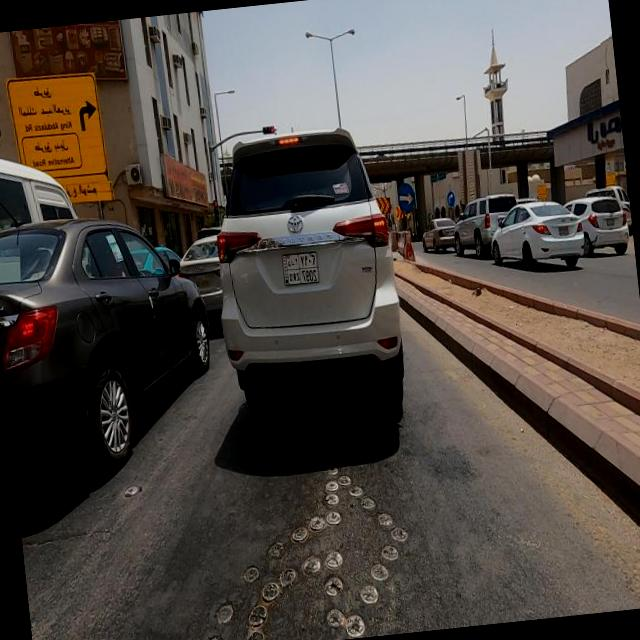debris: (127, 122, 236, 242), (382, 167, 438, 230), (458, 266, 498, 312)
